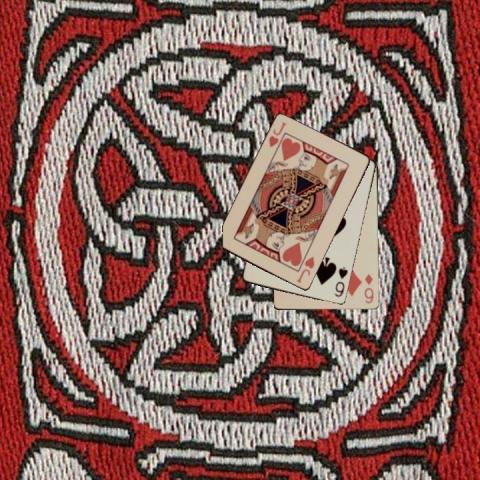6d: (362, 271, 375, 305)
6s: (331, 264, 350, 299)
Jh: (294, 253, 316, 285), (266, 120, 287, 150)
